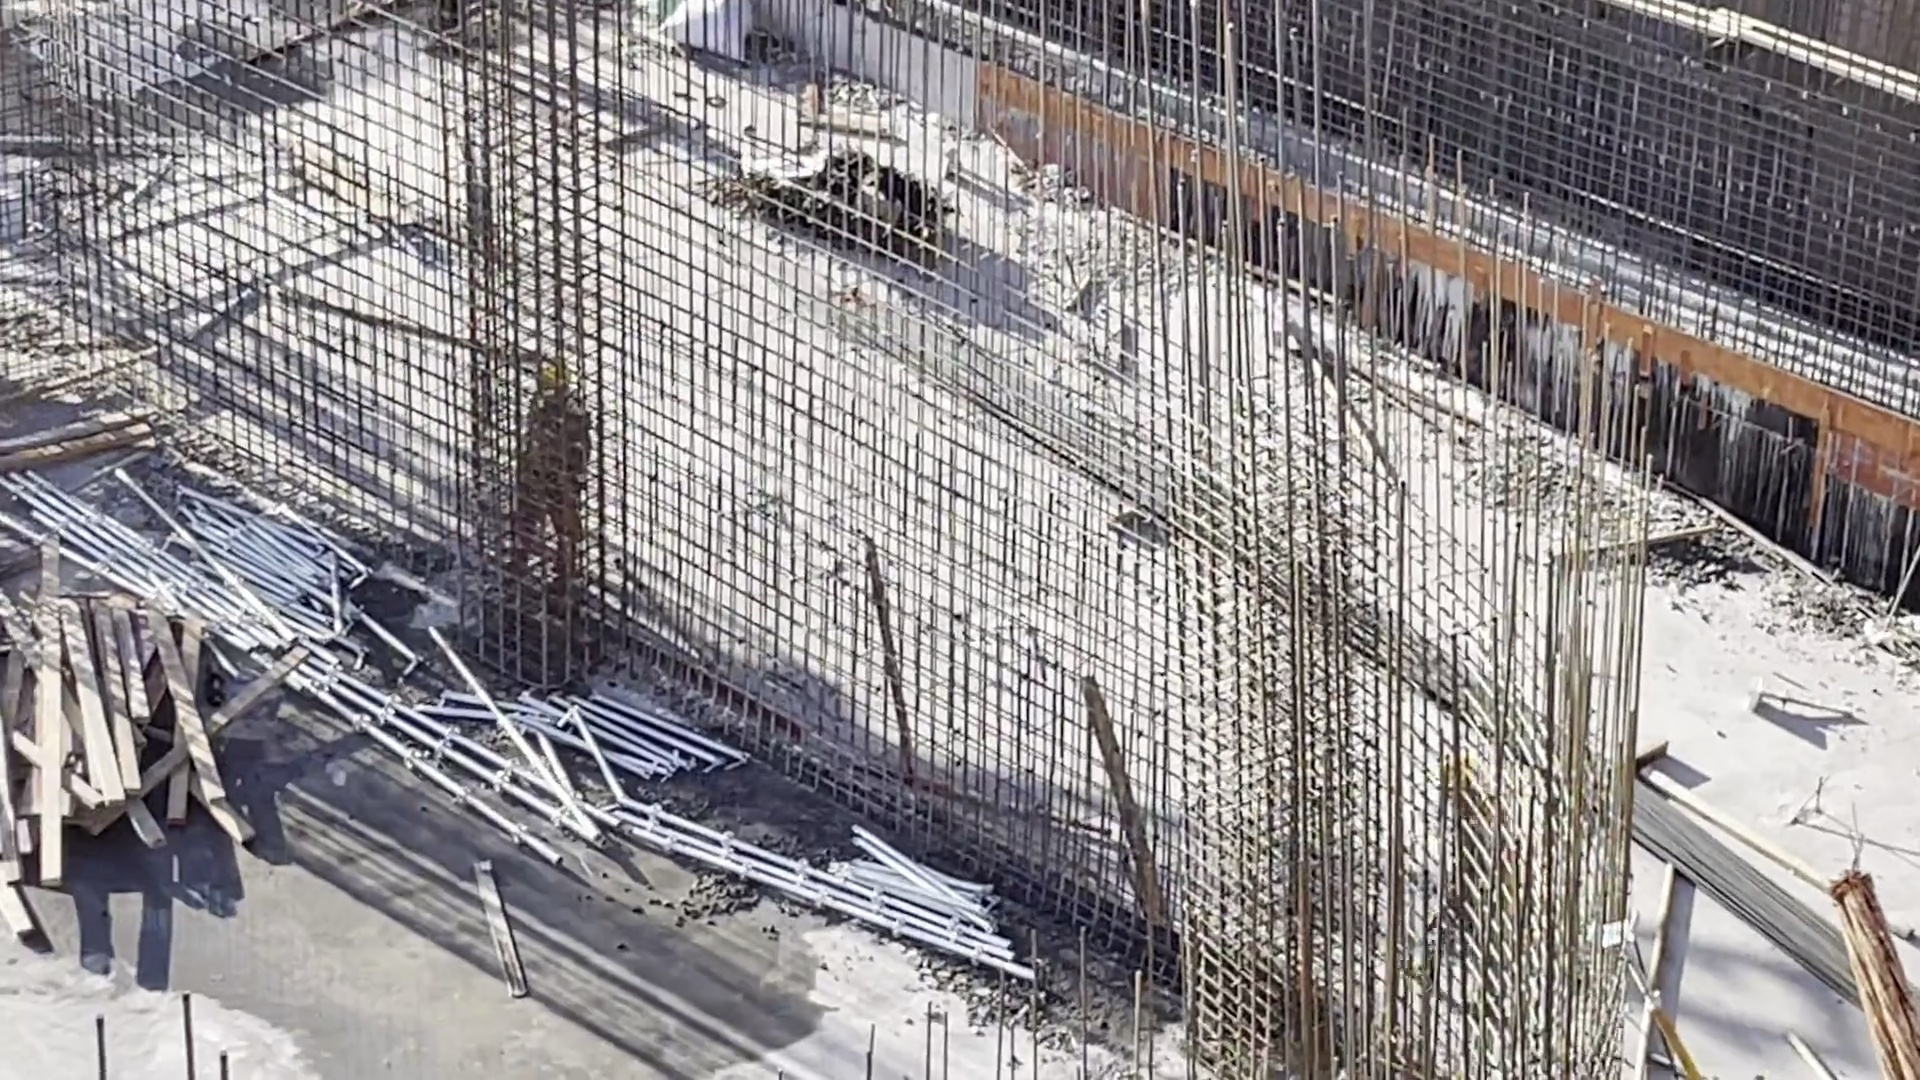helmet: (518, 352, 578, 390)
person: (499, 331, 610, 608)
rebar: (1604, 794, 1920, 1032)
scaffold: (66, 465, 343, 664), (476, 652, 729, 795), (818, 827, 1039, 988)
wood: (1, 598, 235, 873)
